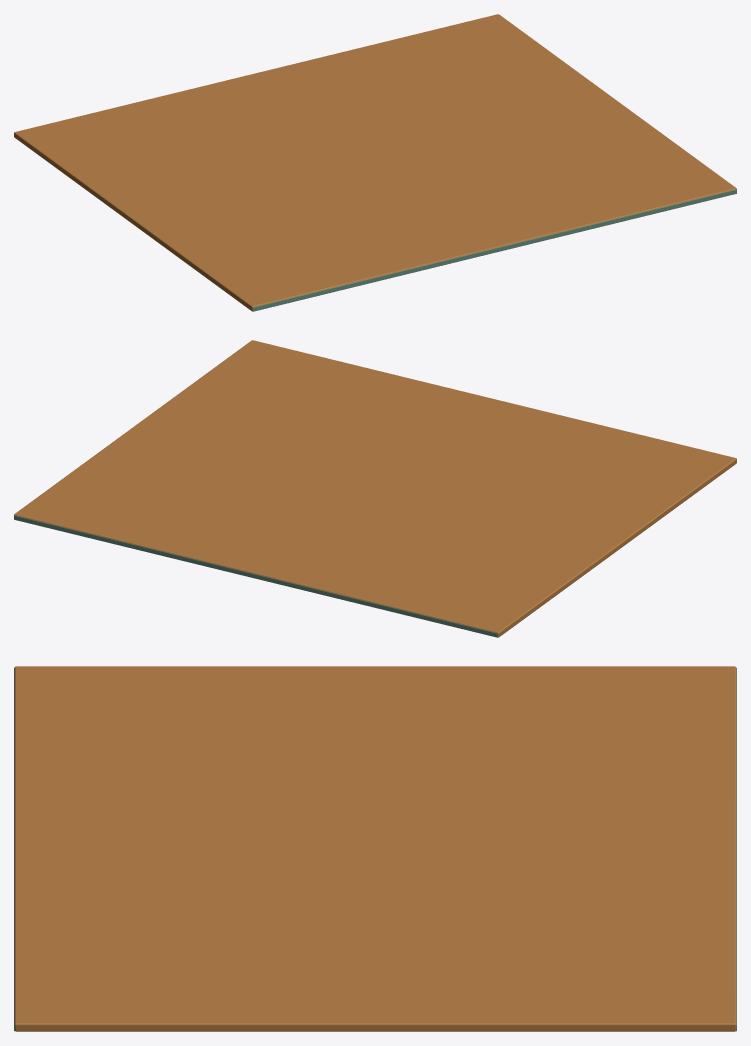
Rendered from drawer-two-right-light.glb.
The picture shows the model from 3 angles, top to bottom: view 1: azimuth 30°, elevation 25°; view 2: azimuth 150°, elevation 25°; view 3: azimuth 270°, elevation 25°; orthographic projection. The views are drawn at different scales.
Parts seen in each view (by area): view 1: wood, sage; view 2: wood, sage; view 3: wood, sage.
Boxes of the visible parts, bbox=[...] form: wood: bbox=[14, 14, 736, 311]; sage: bbox=[252, 189, 736, 311]; wood: bbox=[14, 340, 736, 637]; sage: bbox=[14, 515, 498, 637]; wood: bbox=[14, 666, 736, 1031]; sage: bbox=[14, 668, 736, 1031].
Size of the model in its own units: 27 by 0.3 by 23.03.
